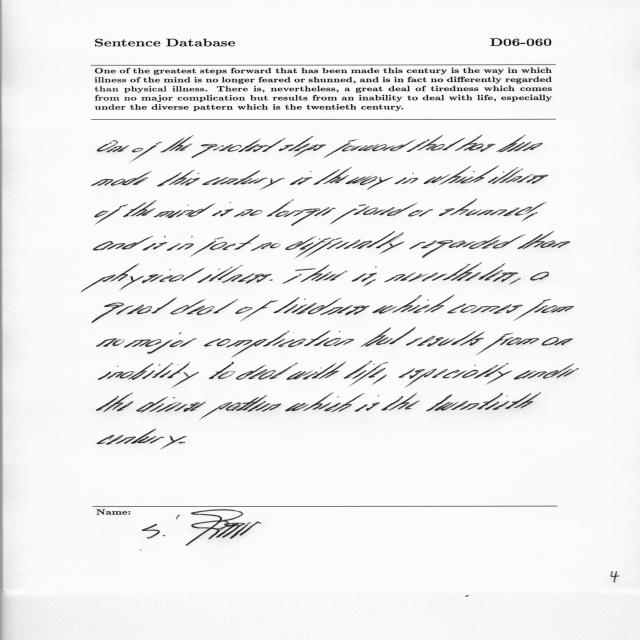word: (204, 331, 354, 358), (81, 264, 205, 292), (285, 231, 405, 258), (410, 234, 526, 258), (399, 363, 512, 387), (98, 362, 199, 388), (385, 263, 518, 282), (92, 297, 177, 323), (426, 392, 541, 411), (201, 395, 282, 419), (330, 203, 418, 225), (192, 138, 286, 158), (267, 199, 336, 226), (439, 199, 546, 216), (97, 429, 187, 449), (273, 297, 370, 315), (324, 140, 416, 158), (190, 234, 260, 257), (124, 332, 197, 354), (285, 393, 365, 413), (202, 170, 285, 189), (373, 295, 455, 314), (424, 166, 499, 185), (477, 333, 539, 355), (198, 265, 272, 283), (514, 299, 574, 321), (283, 264, 348, 284), (406, 331, 484, 347), (136, 397, 206, 413), (361, 327, 416, 347), (170, 299, 238, 315), (287, 362, 346, 380), (344, 361, 388, 385), (236, 363, 298, 380), (514, 364, 579, 380), (488, 167, 548, 184), (279, 136, 326, 157), (407, 135, 465, 152), (518, 231, 571, 249), (154, 203, 216, 218), (91, 171, 152, 186), (235, 301, 278, 321), (94, 236, 154, 250), (447, 303, 523, 314), (496, 135, 543, 152), (97, 392, 134, 412), (157, 170, 200, 187), (313, 167, 352, 185), (455, 135, 495, 152), (345, 176, 393, 190), (381, 393, 420, 410), (95, 204, 128, 224), (161, 135, 194, 153), (132, 142, 162, 161), (123, 200, 156, 217), (209, 362, 235, 379), (354, 395, 380, 412), (97, 140, 129, 153), (167, 236, 194, 251), (352, 266, 377, 282), (143, 236, 168, 250), (290, 171, 312, 185), (212, 202, 234, 216), (542, 337, 573, 346), (395, 173, 419, 184), (251, 242, 280, 251), (97, 338, 125, 347), (234, 209, 263, 217), (408, 209, 433, 217), (530, 272, 549, 281), (373, 375, 387, 385), (523, 212, 538, 221), (364, 280, 376, 287), (509, 278, 521, 284), (179, 442, 185, 444), (269, 279, 273, 281)
